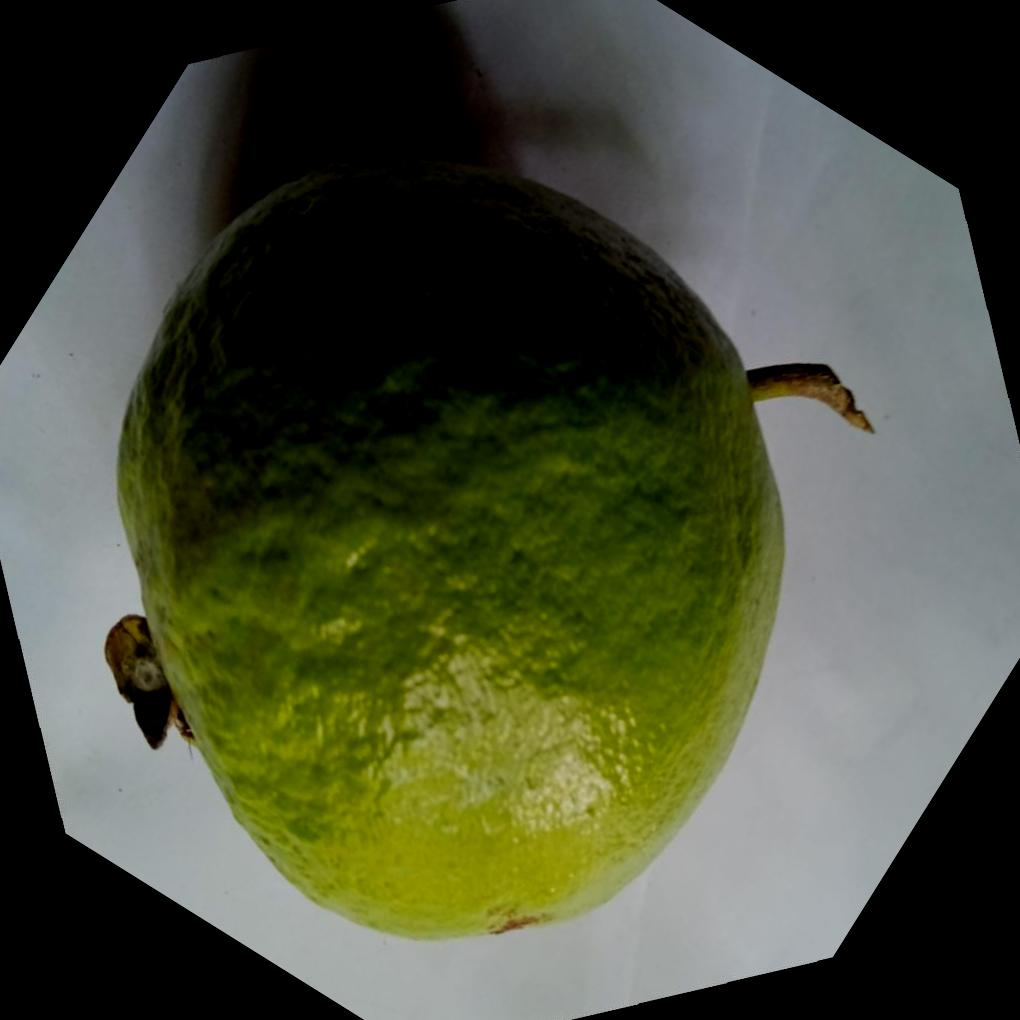FreshGuava: (112, 154, 786, 946)
